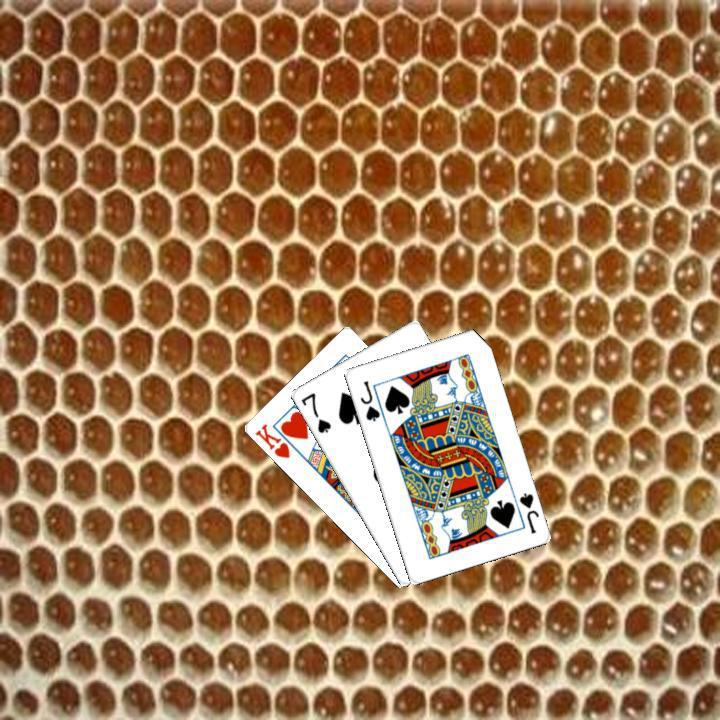7: (296, 388, 333, 435)
J: (355, 376, 382, 423), (514, 488, 540, 535)
K: (250, 419, 292, 460)
